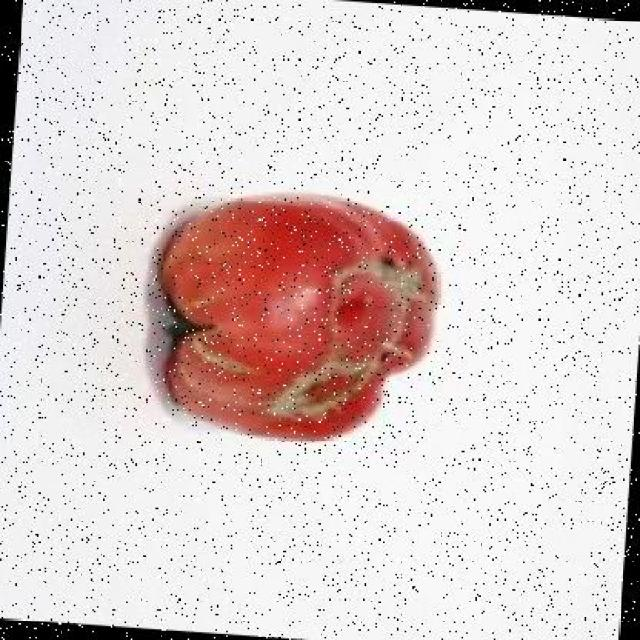overripe tomato: (140, 180, 448, 465)
